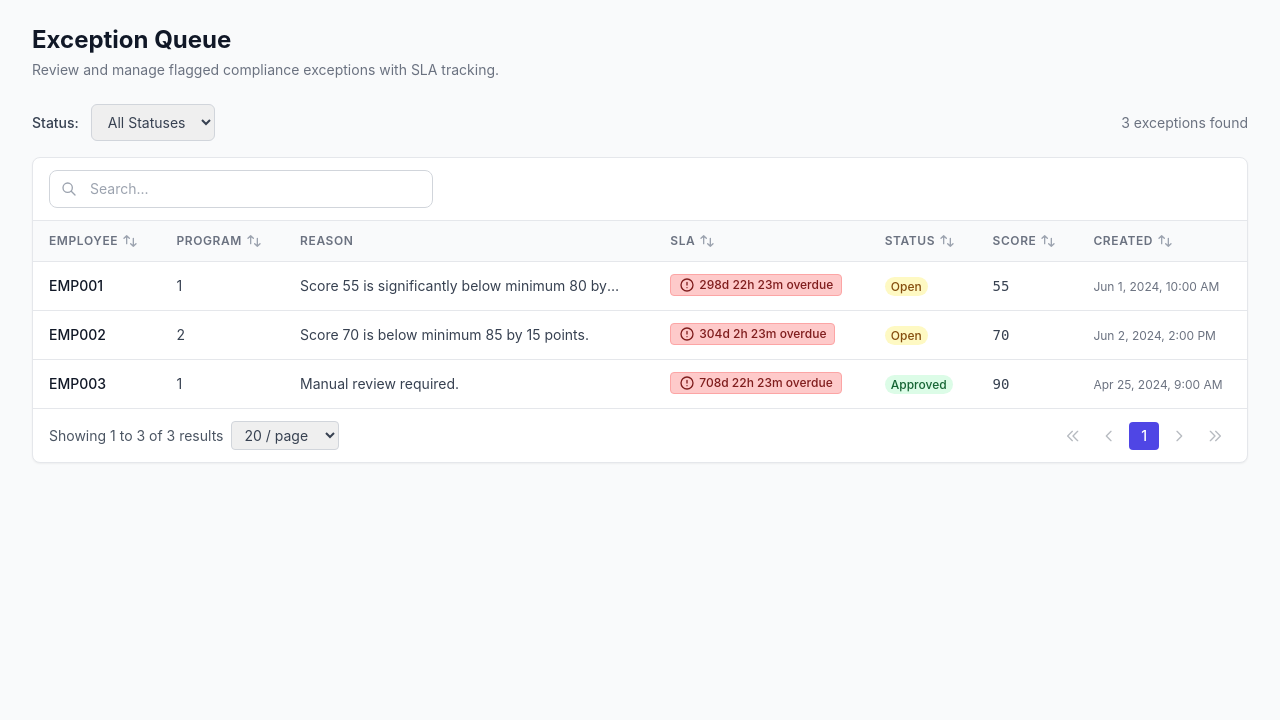
Test: ExceptionQueuePage › shows review details for already reviewed exceptions
Step 1. Click the text "EMP003" → (78, 384), box [49,375,106,392]
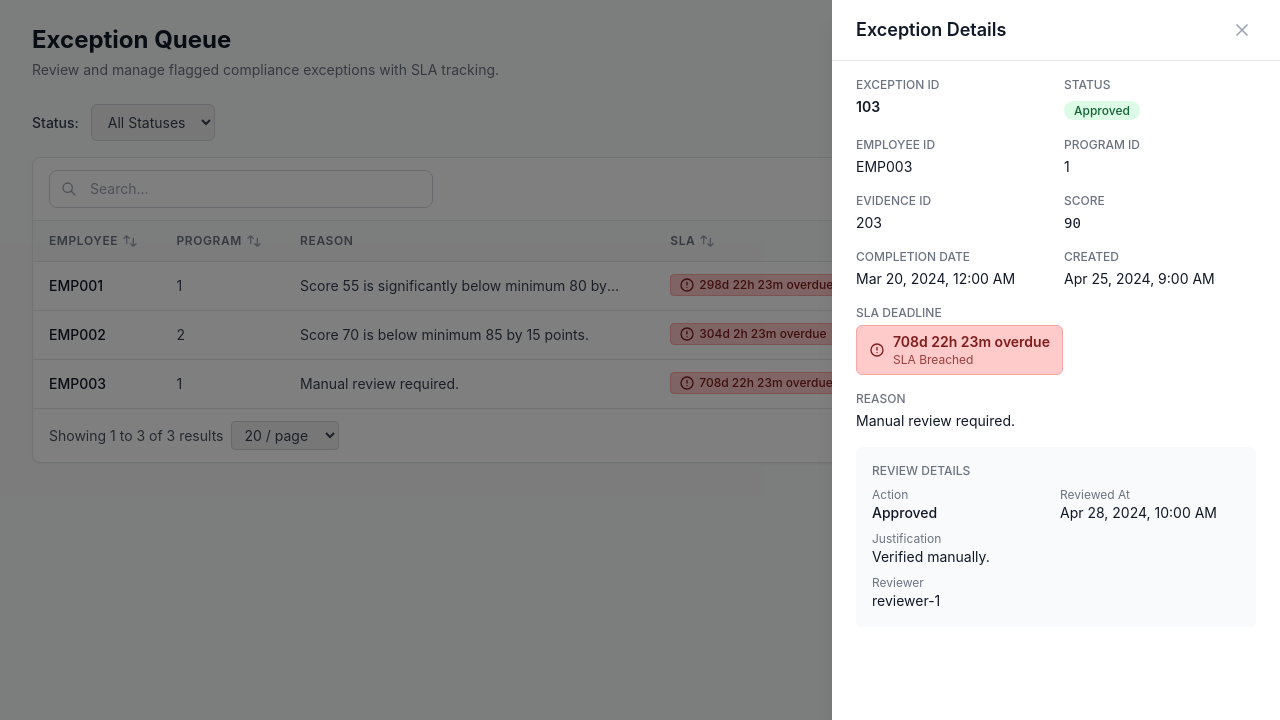
Expected: the heading "Exception Details" is shown, [856,16,1006,44]
Expected: the text "Review Details" is shown, [872,463,970,478]
Expected: the text "Verified manually." is shown, [872,548,990,565]
